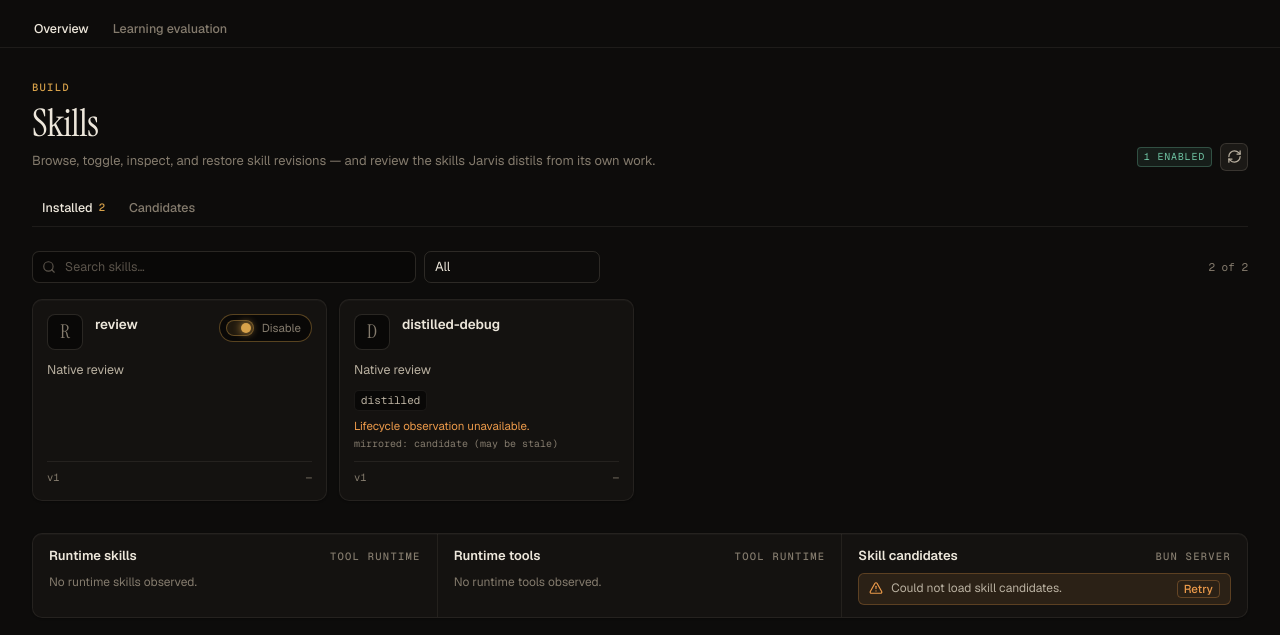
Scenario: SkillsPage optional observations › distinguishes network candidate failure from empty and recovers by GET alone
expect the button with aria-label "Inspect skill: distilled-debug" is shown: met, box [402,314,500,334]
expect the message shows "Could not load skill candidates.": met, box [858,573,1231,605]
Click the button "Retry" at [1198, 589], box [1177,580,1220,598]
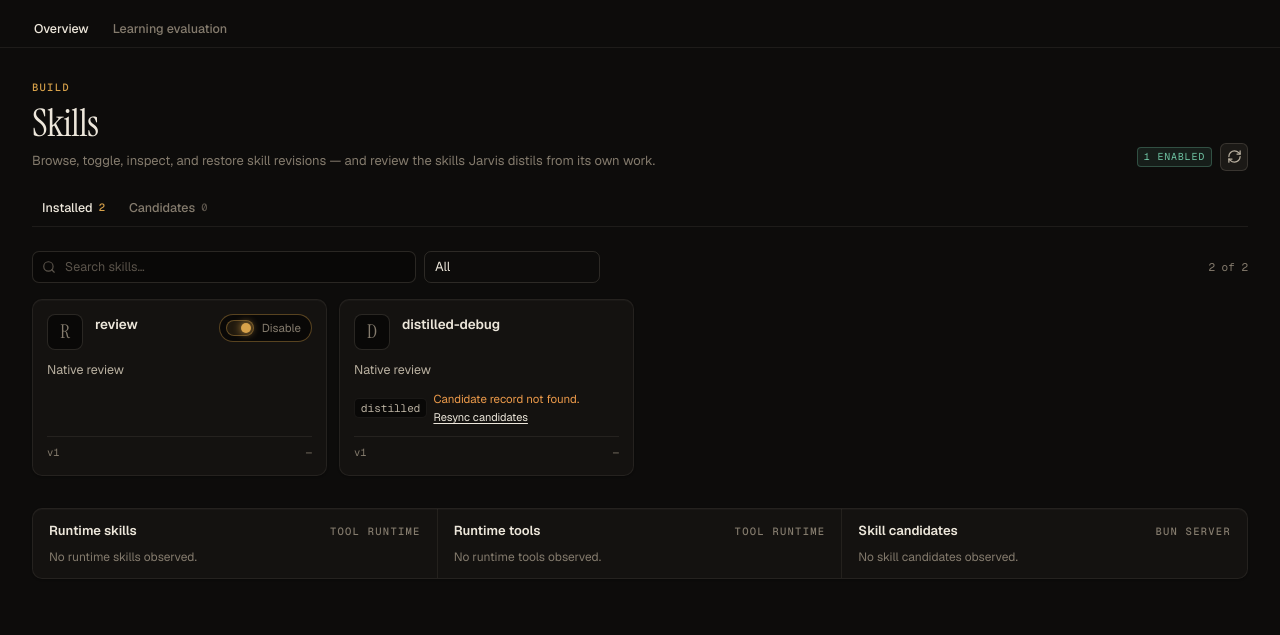
expect the text "No skill candidates observed." is shown: met, box [858,549,1018,565]
